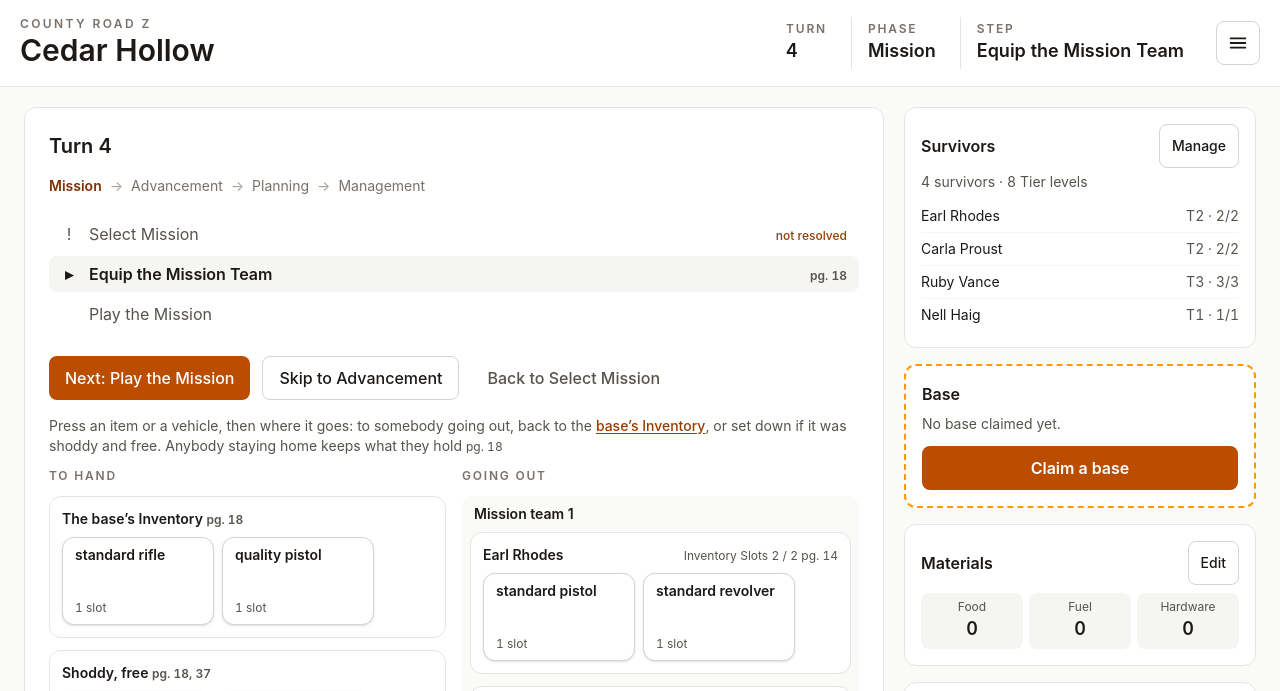
Scenario: Equip Mission Team (pg. 18; Z5-4) › refuses past a survivor’s slots, on the lane, with no button
Click the button "quality pistol 1 slot". click: (298, 580)
box: top-left (222, 536), bottom-right (374, 624)
(page scrolled)
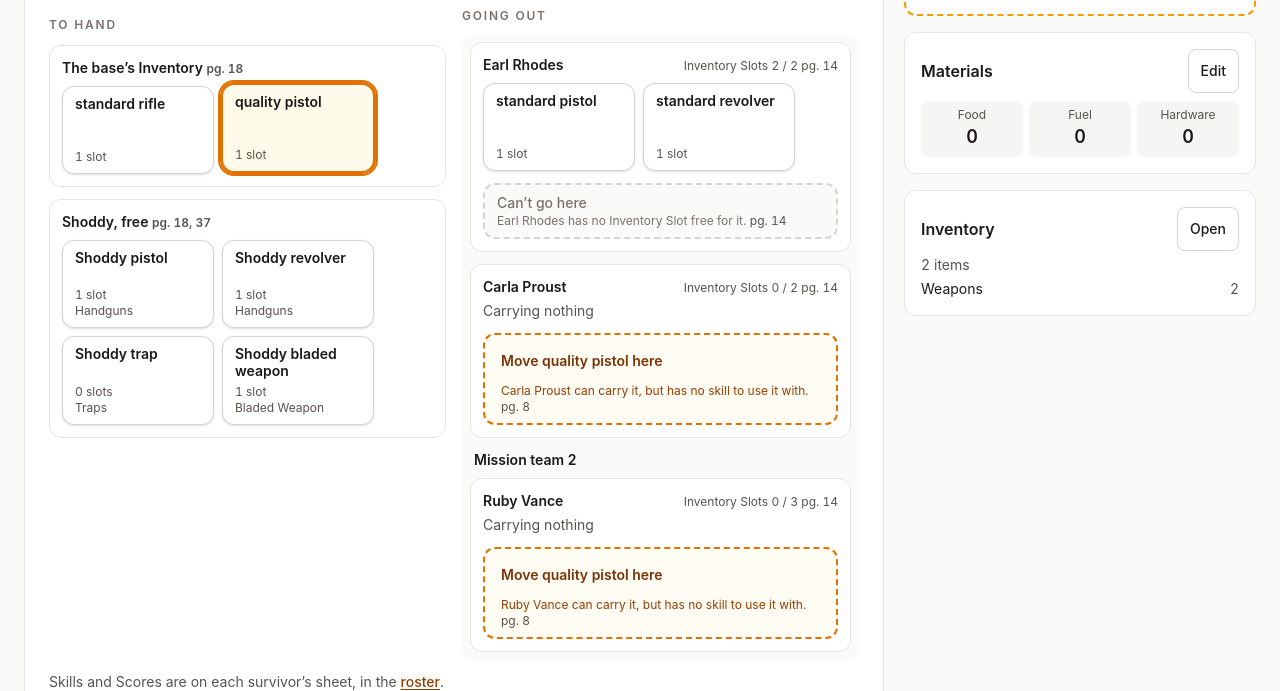
Result: the text "Earl Rhodes has no Inventory Slot free for it. pg. 14" is shown at top-left (497, 212), bottom-right (824, 228)
Result: the button "Move quality pistol here" below "Can’t go here" is shown at top-left (489, 338), bottom-right (832, 382)
